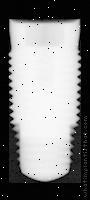Zimmer: (9, 19, 83, 183)
